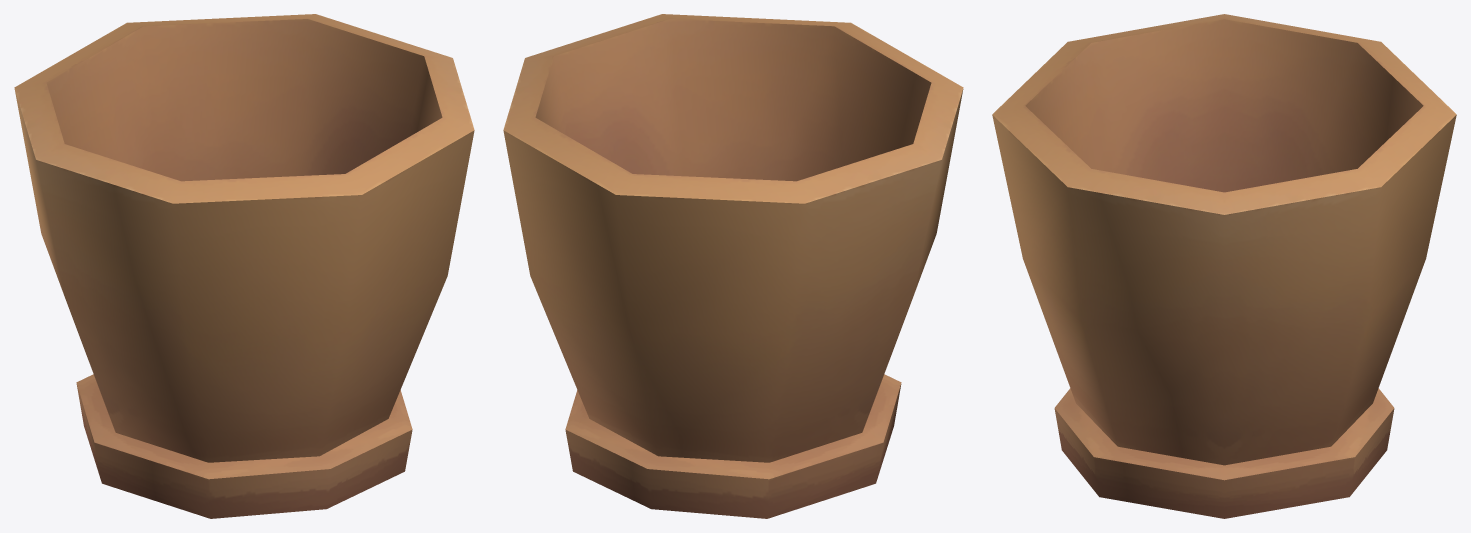
Rendered from pot_003.fbx.
The picture shows the model from 3 angles, left to right: view 1: azimuth 30°, elevation 25°; view 2: azimuth 150°, elevation 25°; view 3: azimuth 270°, elevation 25°; orthographic projection.
Visible parts, largest first — view 1: pot.003; view 2: pot.003; view 3: pot.003.
Part boxes in pixels (left/top/right/bottom): pot.003: left=14, top=14, right=474, bottom=518; pot.003: left=503, top=14, right=963, bottom=518; pot.003: left=992, top=14, right=1456, bottom=518.
Bounding box in the file's own units: 42.85 × 34.24 × 41.86.
